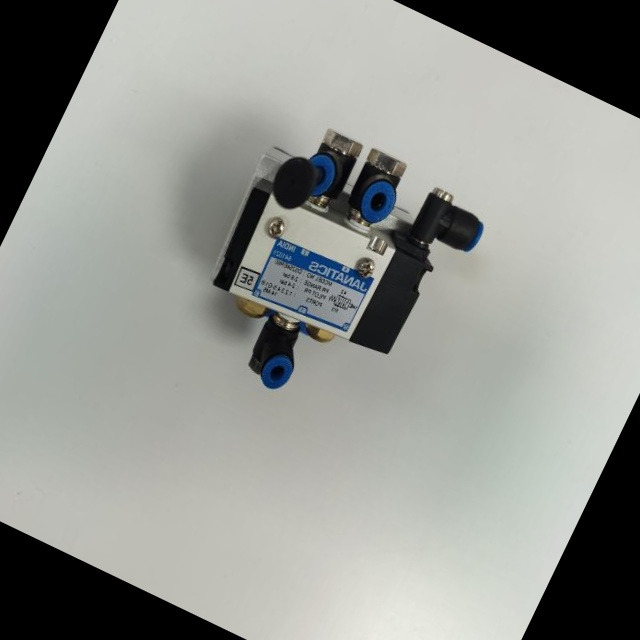5by2 DCV: (159, 81, 514, 456)
